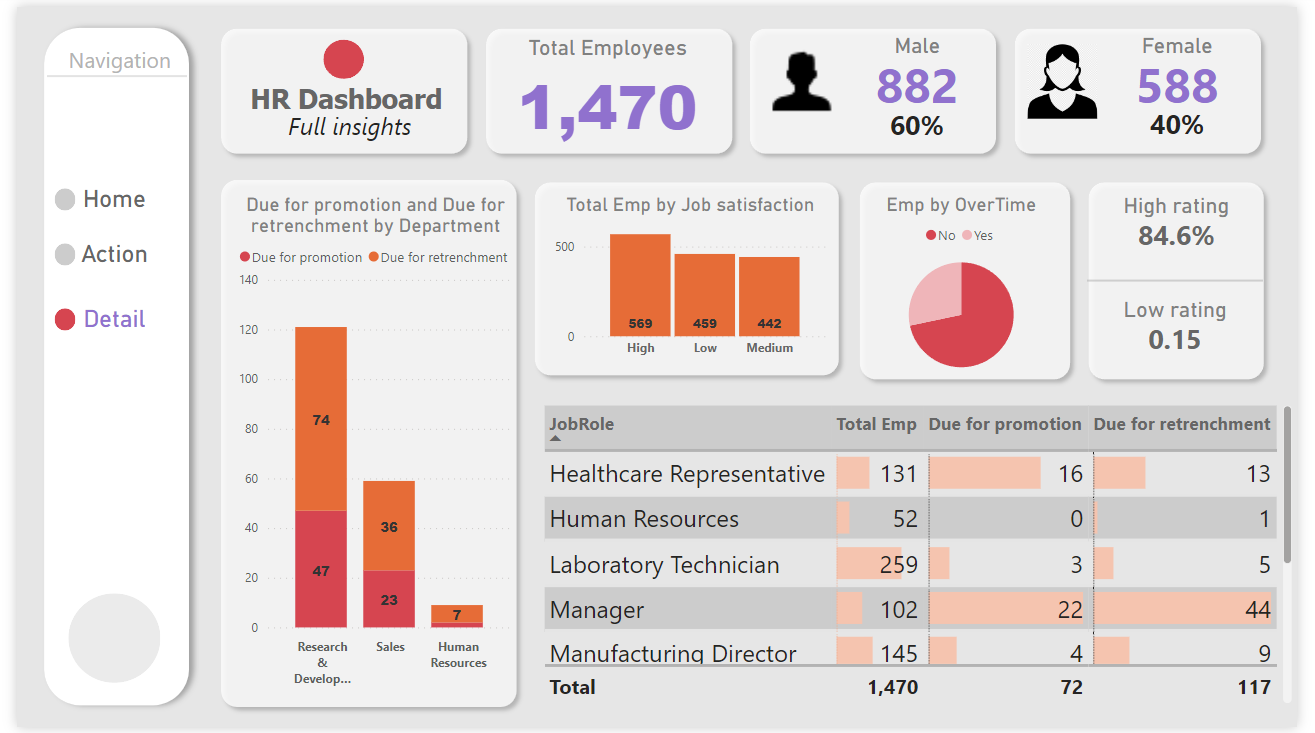

This screenshot's page, from the dashboard's own definition file:
{"tool":"powerbi","page":{"name":"Details","canvas":[1280,720],"ordinal":1},"visuals":[{"type":"shape","box":[16.5,9.6,166.5,699.2],"z":0},{"type":"shape","box":[195.4,12.4,264.3,143.1],"z":1000},{"type":"shape","box":[459.7,12.4,264.3,143.1],"z":2000},{"type":"shape","box":[724,12.4,264.3,143.1],"z":3000},{"type":"shape","box":[988.2,12.4,264.3,143.1],"z":4000},{"type":"shape","box":[195.4,164,313.6,545.1],"z":5000},{"type":"shape","box":[508.9,166.4,322,211.1],"z":6000},{"type":"shape","box":[833.6,166.7,228.3,215],"z":7000},{"type":"shape","box":[1063.1,166.7,193.3,215],"z":8000},{"type":"textbox","box":[209.7,71.2,238.7,51.4],"z":9000},{"type":"textbox","box":[36.9,33,130.5,51.4],"z":10000},{"type":"textbox","box":[209.7,97.6,251.9,55.4],"z":11000},{"type":"shape","box":[305.9,33,40.9,39.6],"z":12000},{"type":"card","title":"Total Employees","fields":{"Values":["All Measures.Total Emp"]},"box":[468,27.5,246.4,112.9],"z":13000},{"type":"card","title":"Male","fields":{"Values":["All Measures.Male"]},"box":[814.8,26.2,170.7,75.7],"z":14000},{"type":"card","fields":{"Values":["All Measures.Male %"]},"box":[834.1,90.8,132.1,55.1],"z":15000},{"type":"card","title":"Female","fields":{"Values":["All Measures.Female"]},"box":[1068.7,26.2,183.1,75.7],"z":16000},{"type":"card","fields":{"Values":["All Measures.Female %"]},"box":[1083.9,90.8,152.8,53.7],"z":17000},{"type":"image","box":[736.3,26.2,95,90.8],"z":18000},{"type":"image","box":[1004.7,33,79.8,84],"z":19000},{"type":"columnChart","fields":{"Category":["HR Analytics Data.Department"],"Y":["All Measures.Due for promotion","All Measures.Due for retirment"]},"box":[216.3,185.9,284.8,501.1],"z":20000},{"type":"tableEx","fields":{"Values":["HR Analytics Data.JobRole","All Measures.Total Emp","All Measures.Due for promotion","All Measures.Due for retirment"]},"box":[521,394.4,758.6,307.5],"z":21000},{"type":"columnChart","fields":{"Category":["HR Analytics Data.Job satisfaction"],"Y":["All Measures.Total Emp"]},"box":[532.8,186.4,281.8,173.2],"z":22000},{"type":"pieChart","title":"Emp by OverTime","fields":{"Category":["HR Analytics Data.OverTime"],"Y":["All Measures.Total Emp"]},"box":[820.3,186,248.9,192.1],"z":23000},{"type":"card","title":"High rating","fields":{"Values":["All Measures.% High emp rating"]},"box":[1066.7,186,186,61.6],"z":24000},{"type":"card","title":"Low rating","fields":{"Values":["All Measures.% Low emp rating"]},"box":[1065.5,289.9,186,61.6],"z":25000},{"type":"shape","box":[1070.1,265.7,176.1,14.7],"z":26000},{"type":"shape","box":[36.9,300.7,21.1,22.4],"z":27000},{"type":"actionButton","title":"Detail","box":[27.7,298,139.8,39.6],"z":28000},{"type":"shape","box":[36.9,236,21.1,22.4],"z":29000},{"type":"actionButton","title":"Action","box":[27.7,232.1,139.8,58],"z":30000},{"type":"shape","box":[36.9,180.7,21.1,22.4],"z":31000},{"type":"actionButton","title":"Home","box":[27.5,177.5,140,38.8],"z":32000},{"type":"shape","box":[51.4,586.8,92.3,89.7],"z":33000},{"type":"shape","box":[30.2,61.6,140.1,15.7],"z":34000},{"type":"actionButton","box":[30,166.2,117.5,51.2],"z":34001},{"type":"actionButton","box":[30,232.5,117.5,40],"z":34002}]}

Visuals, with their boxes in screenshot pixels (x1, y1, x2, y2), scaled from the page's 1280x720 canvas onto the 1315x733 screenshot:
shape: 17 10 188 722
shape: 201 13 472 158
shape: 472 13 744 158
shape: 744 13 1015 158
shape: 1015 13 1287 158
shape: 201 167 523 722
shape: 523 169 854 384
shape: 856 170 1091 389
shape: 1092 170 1291 389
textbox: 215 72 461 125
textbox: 38 34 172 86
textbox: 215 99 474 156
shape: 314 34 356 74
"Total Employees" card: 481 28 734 143
"Male" card: 837 27 1012 104
card - All Measures.Male %: 857 92 993 149
"Female" card: 1098 27 1286 104
card - All Measures.Female %: 1114 92 1271 147
image: 756 27 854 119
image: 1032 34 1114 119
columnChart - HR Analytics Data.Department x All Measures.Due for promotion: 222 189 515 699
tableEx - HR Analytics Data.JobRole x All Measures.Total Emp: 535 402 1314 715
columnChart - HR Analytics Data.Job satisfaction x All Measures.Total Emp: 547 190 837 366
"Emp by OverTime" pieChart: 843 189 1098 385
"High rating" card: 1096 189 1287 252
"Low rating" card: 1095 295 1286 358
shape: 1099 270 1280 285
shape: 38 306 60 329
"Detail" actionButton: 28 303 172 344
shape: 38 240 60 263
"Action" actionButton: 28 236 172 295
shape: 38 184 60 207
"Home" actionButton: 28 181 172 220
shape: 53 597 148 689
shape: 31 63 175 79
actionButton: 31 169 152 221
actionButton: 31 237 152 277
